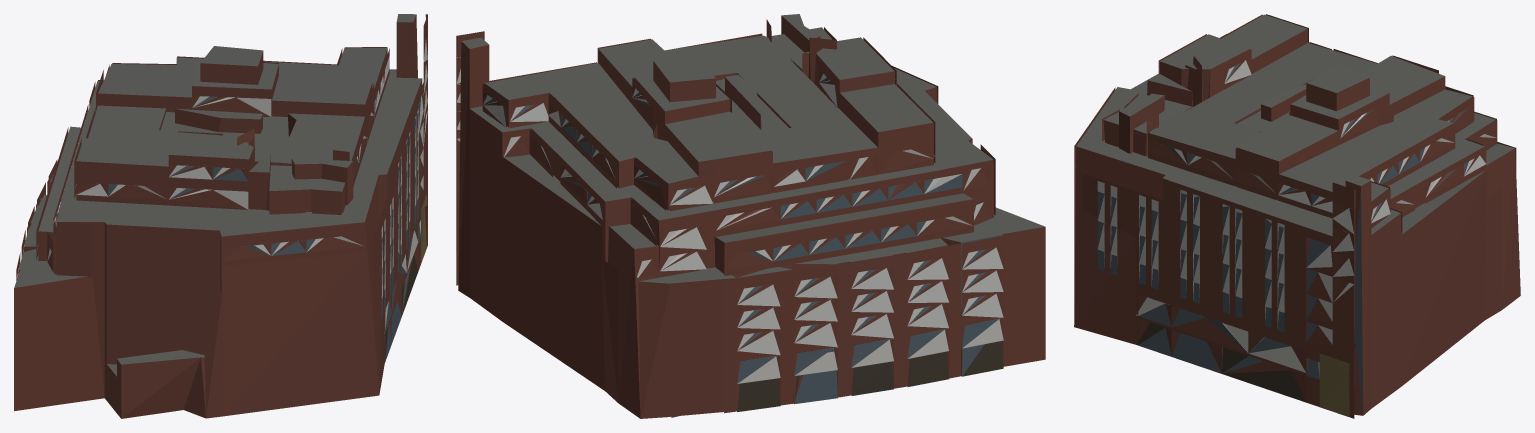
File: brand-bij-ca.lod2.glb
3 views of the same model, side by side, from view 1: azimuth 30°, elevation 25°; view 2: azimuth 150°, elevation 25°; view 3: azimuth 270°, elevation 25° (orthographic). The views are drawn at different scales.
Parts seen in each view (by area): view 1: lod2; view 2: lod2; view 3: lod2.
Part boxes in pixels (x1=…): lod2: x1=14, y1=14, x2=427, y2=418; lod2: x1=456, y1=14, x2=1045, y2=418; lod2: x1=1074, y1=14, x2=1520, y2=418.
Bounding box in the file's own units: 79.87 × 38.87 × 64.98.
